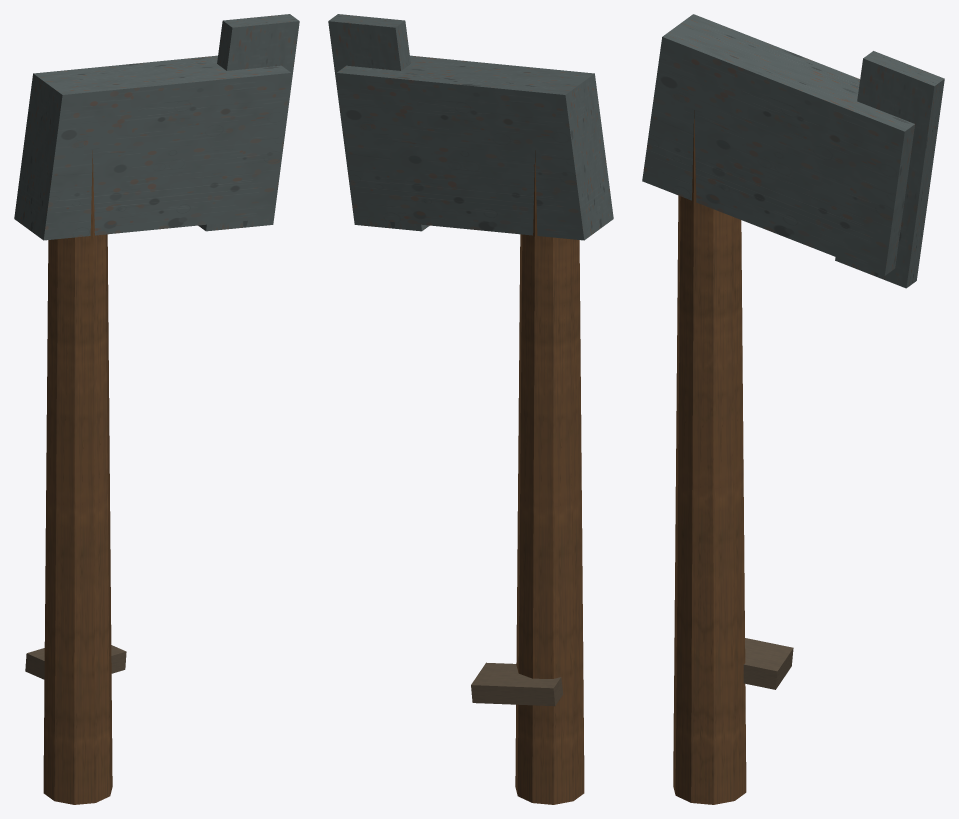
Rendered from ax-tool-001_survival_axe__worn.obj.
3 views of the same model, side by side, from view 1: azimuth 30°, elevation 25°; view 2: azimuth 150°, elevation 25°; view 3: azimuth 330°, elevation 25° (orthographic). The views are drawn at different scales.
Parts seen in each view (by area): view 1: ax-tool-001_survival_axe__worn; view 2: ax-tool-001_survival_axe__worn; view 3: ax-tool-001_survival_axe__worn.
Boxes of the visible parts, x1,y1,x2,y2 form: ax-tool-001_survival_axe__worn: (14,14,299,804); ax-tool-001_survival_axe__worn: (328,14,613,804); ax-tool-001_survival_axe__worn: (642,14,944,804).
Size of the model in its own units: 0.3913 by 1.03 by 0.1325.
3 materials, 3 textured.
